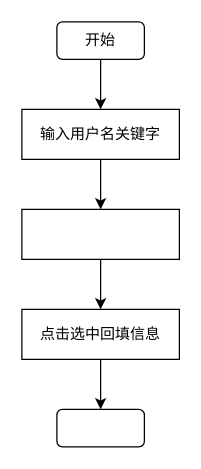
Some shapes in this 201 by 469 pixel diagram are drawn without their labels. The centre of each missing label's shape, as x and y in pixels:
结束: pixel 100 427
过滤下拉列表信息: pixel 100 233
